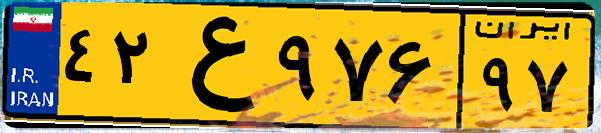2: (110, 28, 158, 98)
4: (57, 26, 110, 100)
6: (385, 28, 445, 110)
7: (330, 28, 385, 110), (525, 38, 570, 115)
9: (270, 28, 330, 110), (475, 38, 525, 113)
ع: (158, 12, 270, 120)
